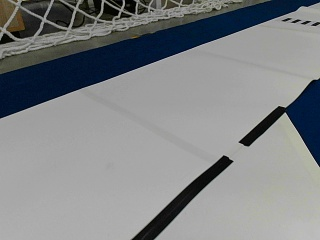crosswalk: (282, 16, 319, 26)
